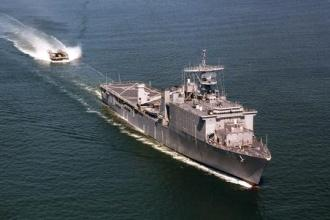otherboat: (45, 47, 74, 65)
warship: (101, 55, 271, 184)
